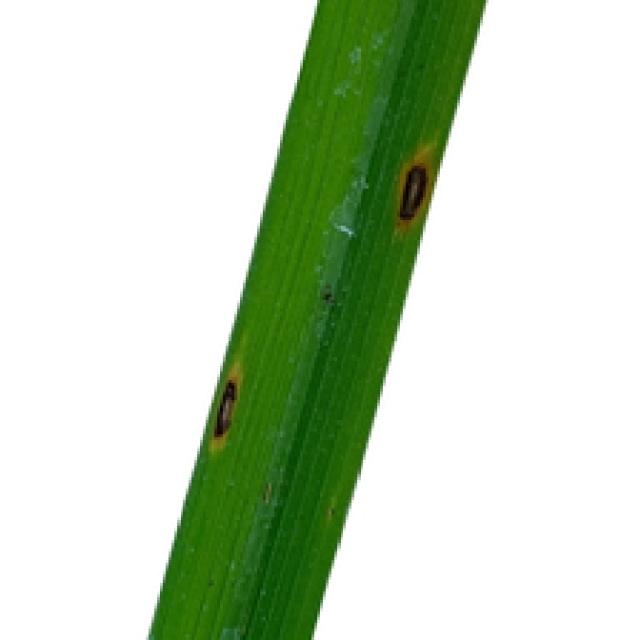Rice___Rice_Blast: (147, 0, 485, 637)
